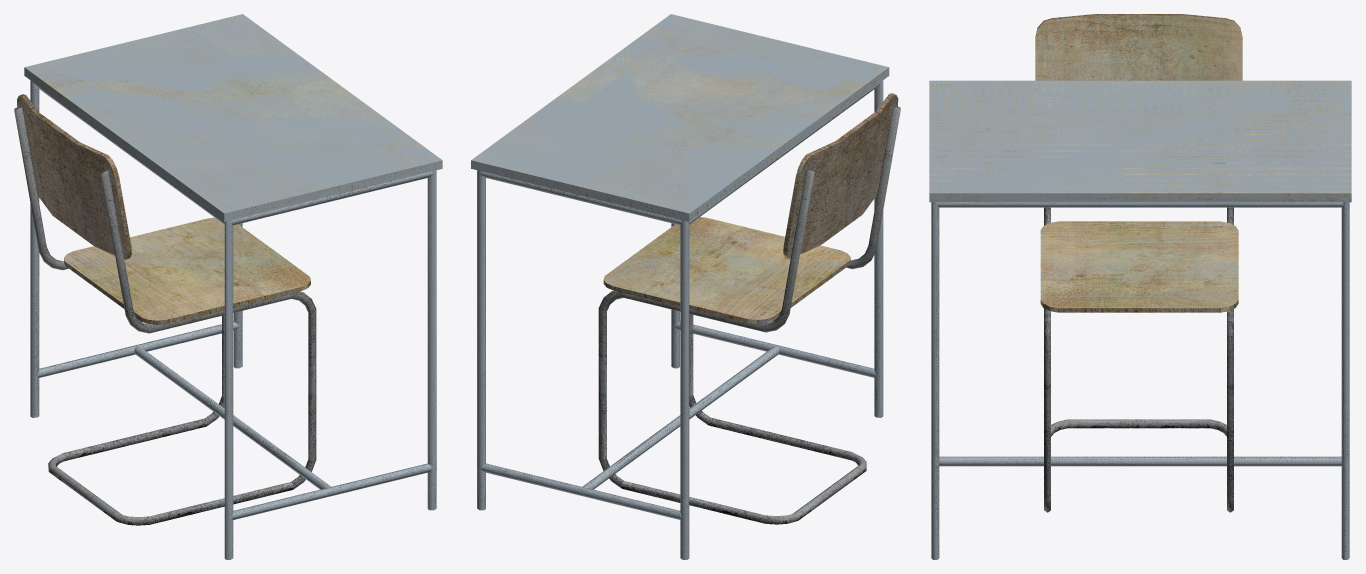
Rendered from Tafel en stoel los.fbx.
3 views of the same model, side by side, from view 1: azimuth 30°, elevation 25°; view 2: azimuth 150°, elevation 25°; view 3: azimuth 270°, elevation 25° (orthographic). The views are drawn at different scales.
Parts seen in each view (by area): view 1: group_4, group_1, group_0, group_2, ID70, ID118, ID126, ID62, group_3, ID86; view 2: group_4, group_1, group_0, group_2, ID70, ID62, ID86, ID118, ID94; view 3: group_4, group_1, group_2, group_0, ID70, ID86, ID126, ID78.
Part boxes in pixels (x1,y1,x2,y2): group_4: [24, 14, 442, 221]; group_1: [64, 217, 310, 324]; group_0: [14, 107, 316, 525]; group_2: [17, 94, 131, 259]; ID70: [37, 321, 433, 519]; ID118: [224, 220, 233, 559]; ID126: [427, 170, 436, 510]; ID62: [30, 80, 224, 417]; group_3: [231, 171, 433, 225]; ID86: [233, 223, 242, 368]; group_4: [471, 14, 889, 221]; group_1: [603, 217, 850, 324]; group_0: [598, 106, 900, 524]; group_2: [783, 93, 898, 258]; ID70: [480, 321, 876, 519]; ID62: [680, 82, 881, 559]; ID86: [477, 170, 485, 510]; ID118: [874, 80, 883, 417]; ID94: [480, 171, 682, 225]; group_4: [929, 80, 1351, 202]; group_1: [1040, 221, 1238, 312]; group_2: [1035, 14, 1242, 80]; group_0: [1044, 207, 1233, 512]; ID70: [939, 456, 1341, 466]; ID86: [1341, 202, 1349, 559]; ID126: [931, 202, 939, 559]; ID78: [937, 202, 1343, 207].
Size of the model in its own units: 25.12 by 30.18 by 31.54.
3 materials, 2 textured.
